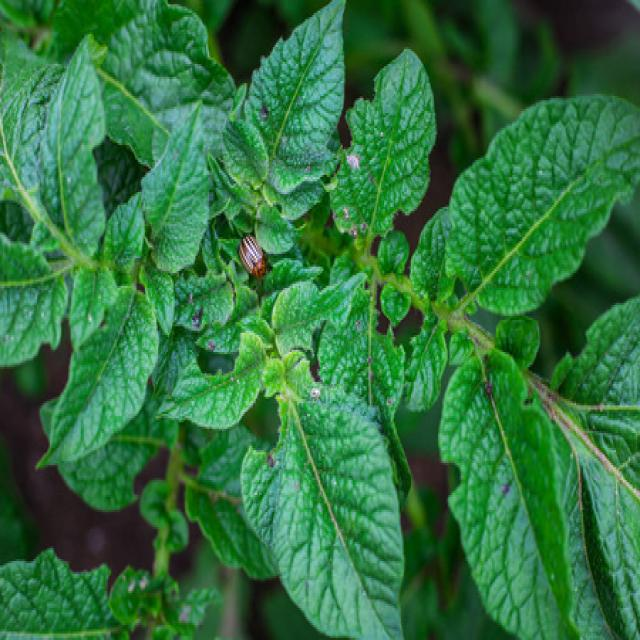ShuCaiHuaBanChong-Grown-: (233, 229, 275, 293)
